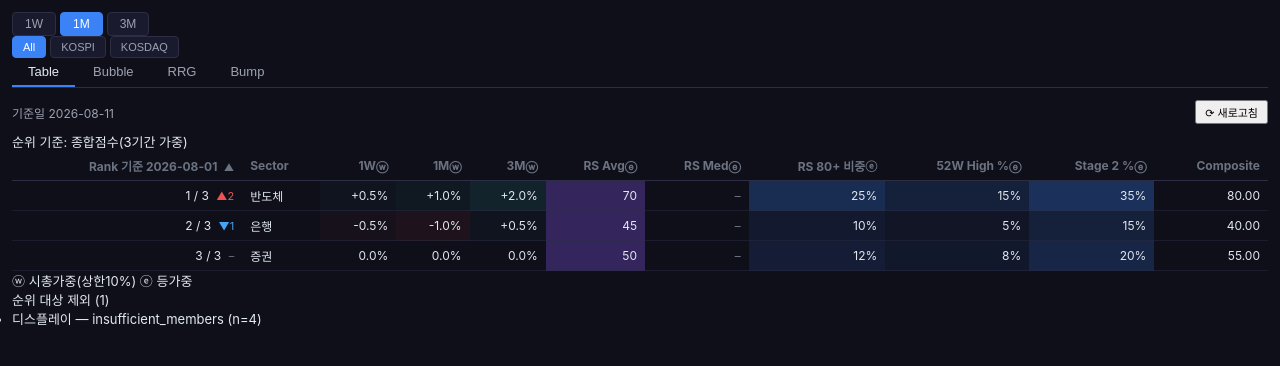
Scenario: AC-SUX-023 — period/market 변경 시 정렬 rank/asc 리셋 › rs_avg desc 정렬 상태에서 market 을 바꾸면 rank/asc 로 리셋된다 (띠 소멸)
The width and height of the screenshot is (1280, 366).
Step 1. Click the text "RS Avg" → (604, 166), box [584,158,625,173]
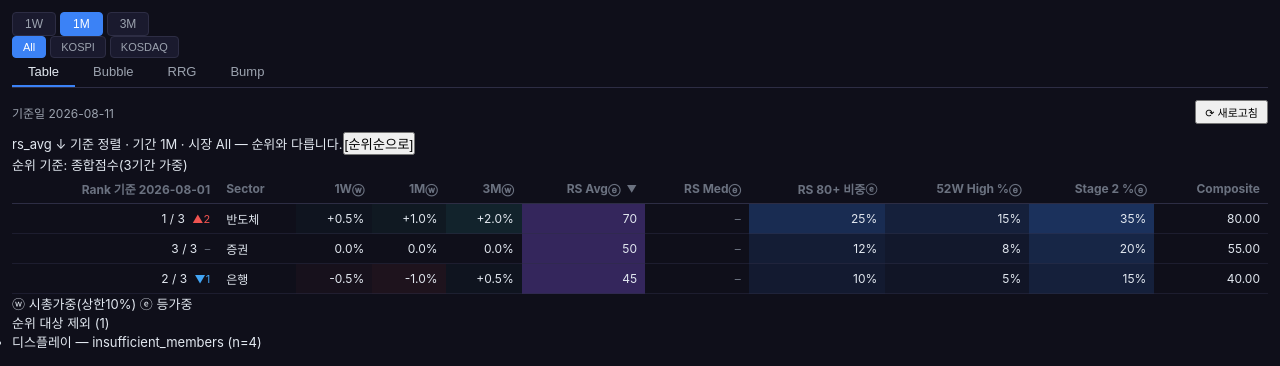
Expected: the element with test id "sort-notice" is shown, [12,132,415,155]
// market 토글 KOSPI 클릭
Step 2. Click the button "KOSPI" → (78, 47), box [50,36,106,58]
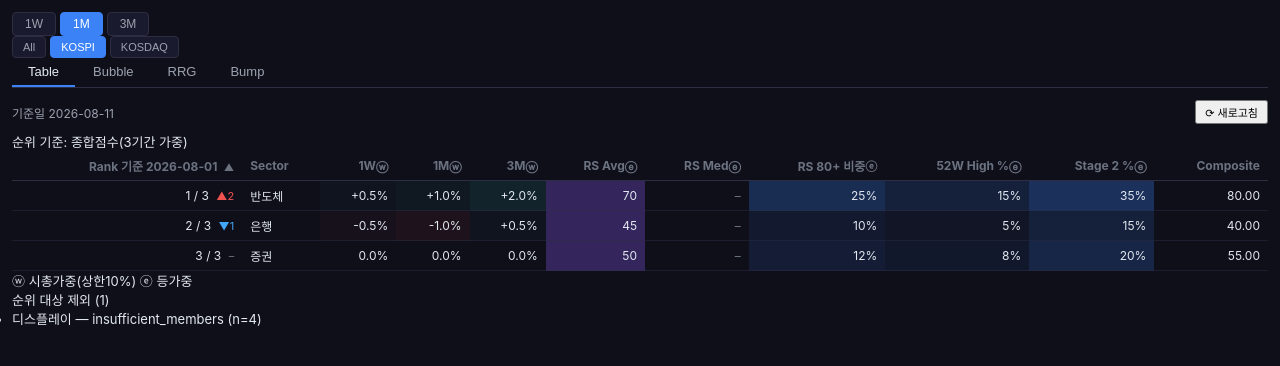
Expected: the element with test id "sort-notice" is gone
